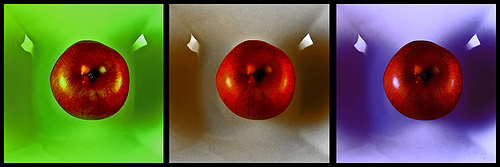apple: (49, 40, 131, 121), (216, 39, 296, 121), (382, 40, 462, 121)
